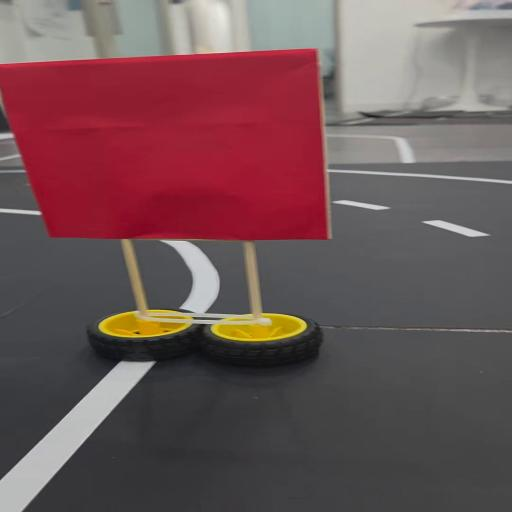Sign_A: (0, 56, 339, 371)
